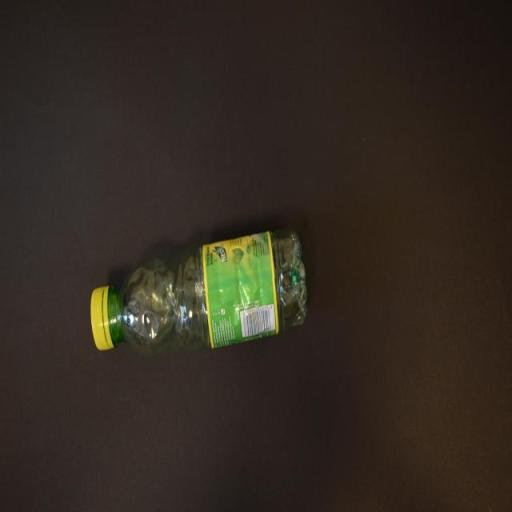plastic: (90, 230, 311, 352)
